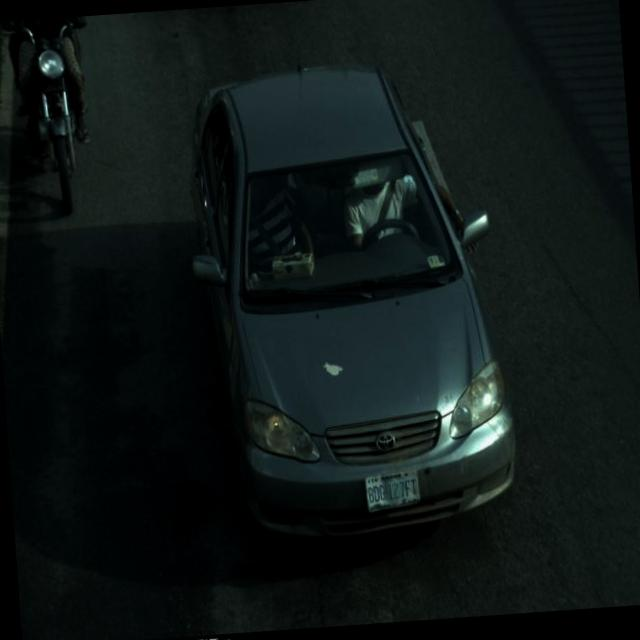person_with_seatbelt: (332, 162, 431, 260)
